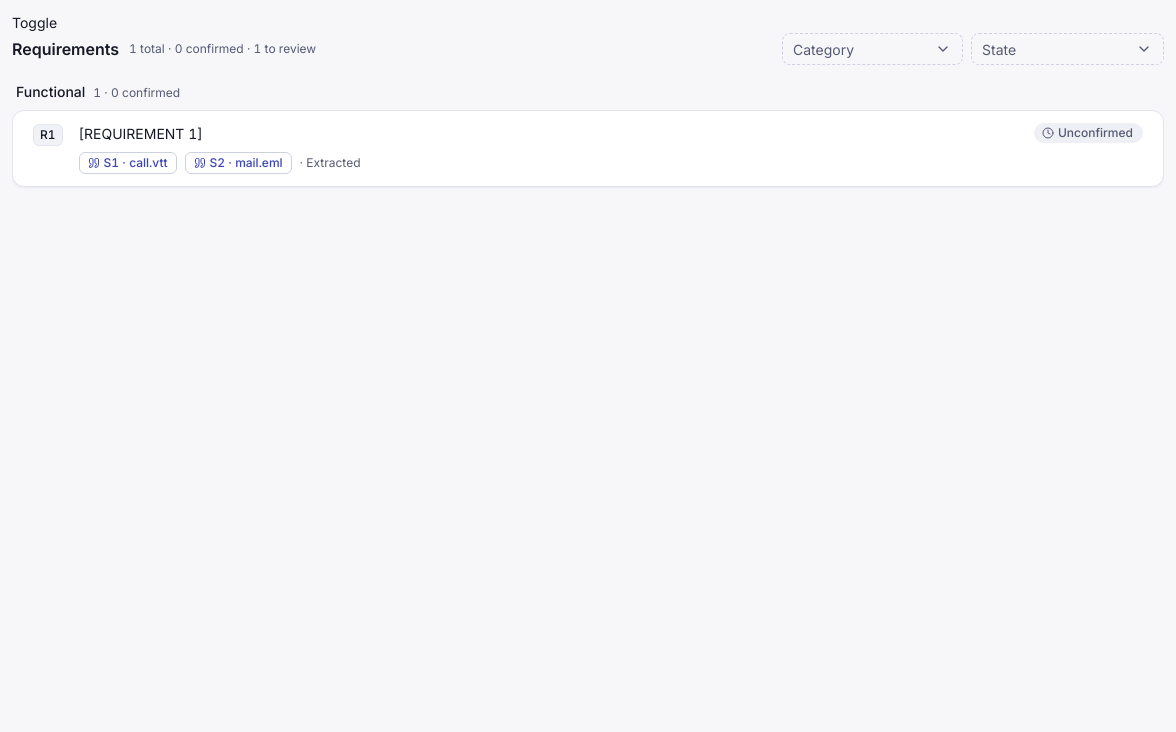
Requirements list and Evidence inspector › a late reply for an earlier chip doesn't replace the shown passage
Click the button "[REQUIREMENT 1]" at (141, 134), box 79,123 -> 1018,144
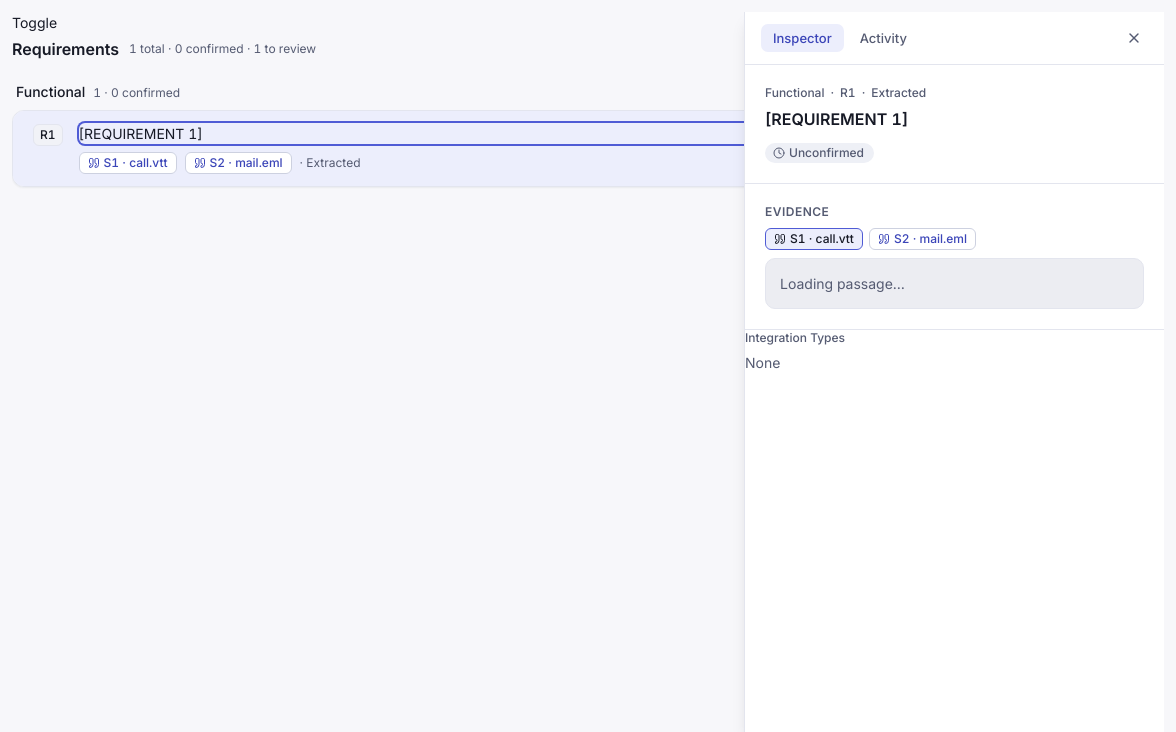
Click the button "S2 · mail.eml" below "Evidence" at (923, 239), box 869,228 -> 976,250
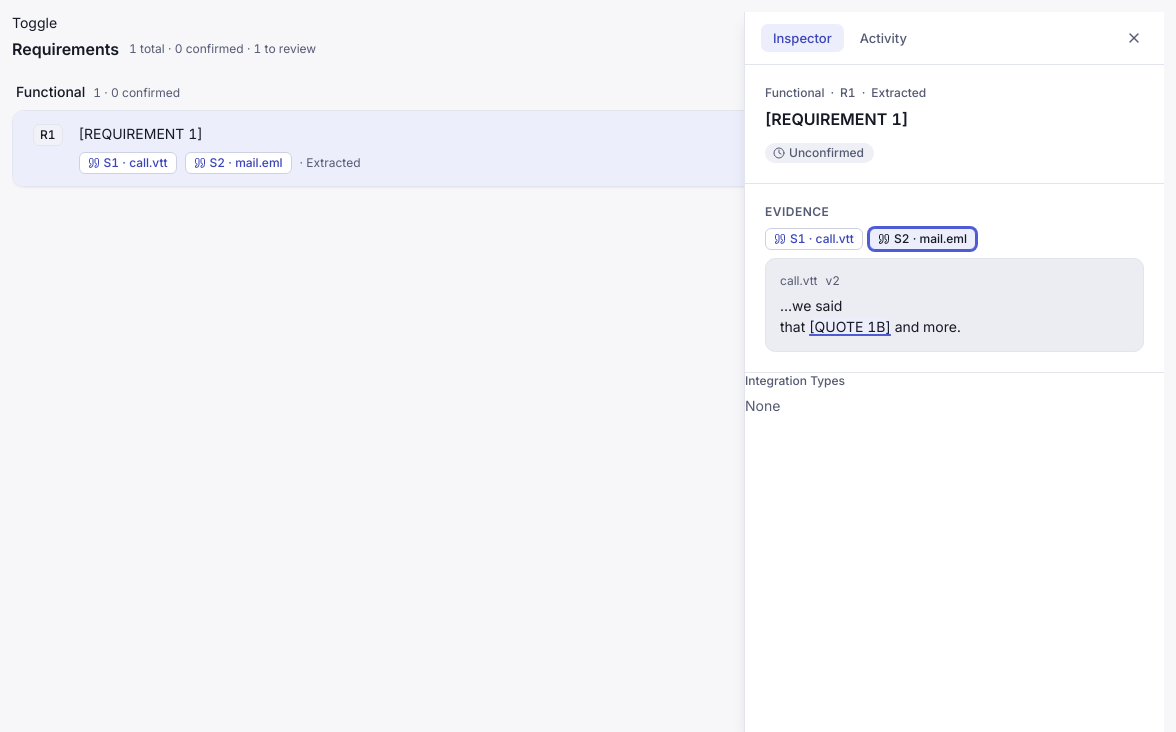
expect the text "[QUOTE 1B]" is shown: met, box 809,318 -> 891,335
